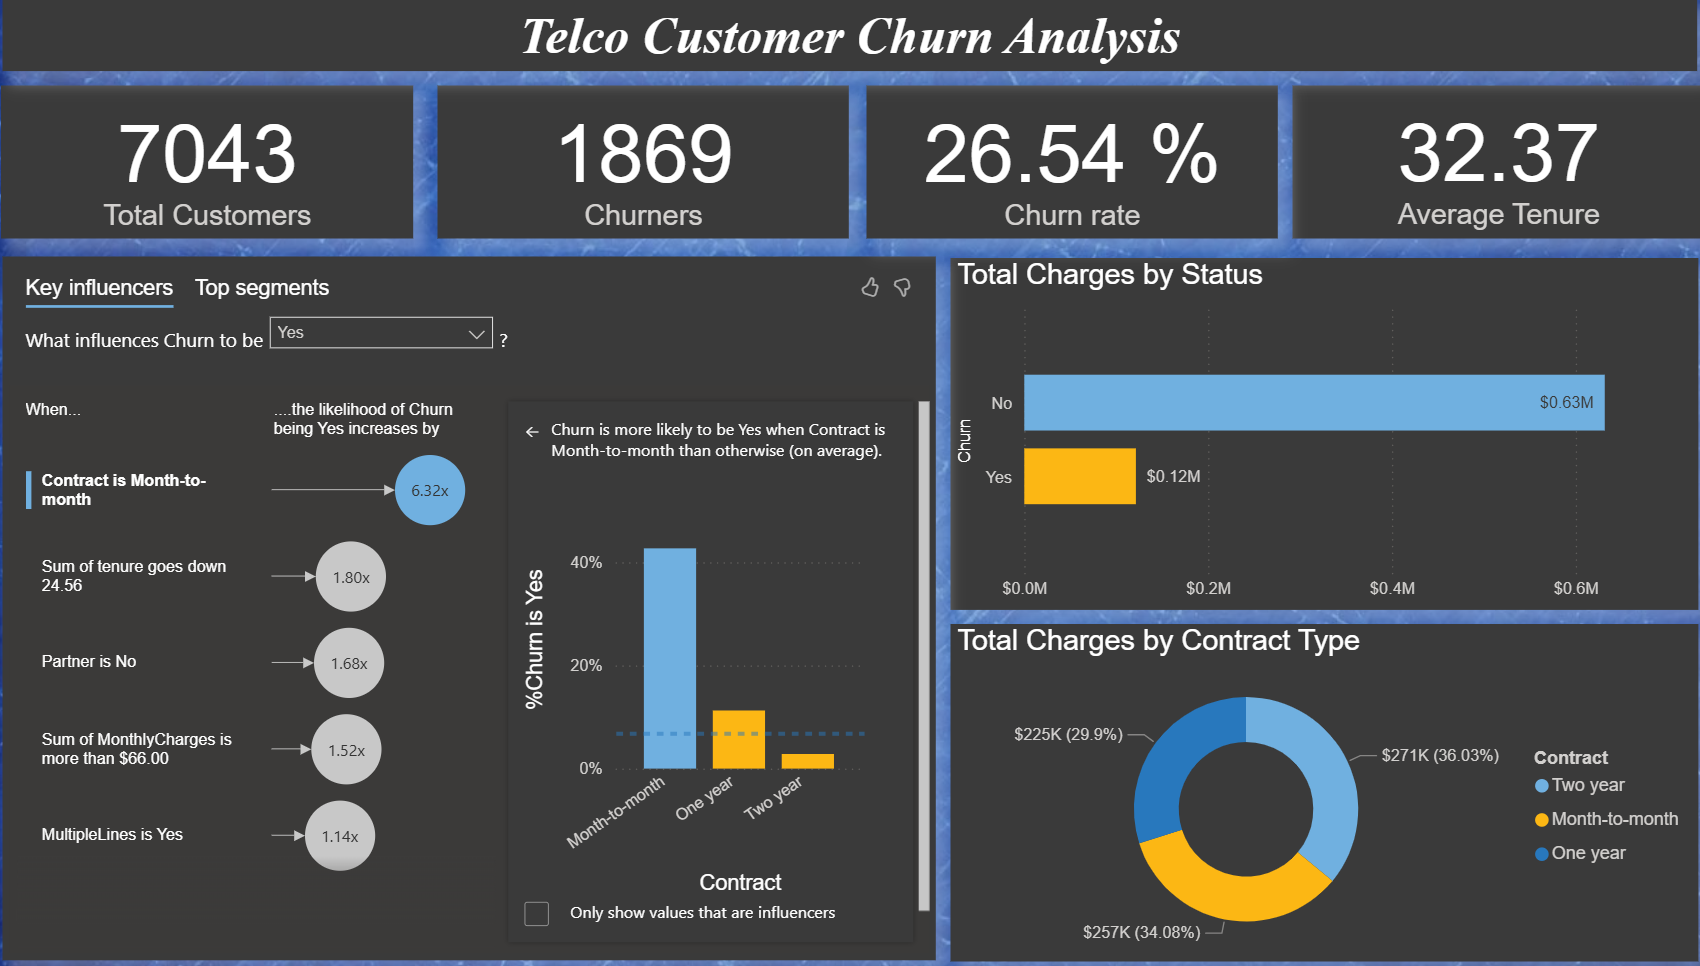

Layout of this report page (visuals, bound fields, positions):
{"tool":"powerbi","page":{"name":"Churn monitoring","canvas":[1280,720],"ordinal":0},"visuals":[{"type":"card","title":"Contract","fields":{"Values":["WA_Fn-UseC_-Telco-Customer-Chur.Average Tenure"]},"box":[970.5,63,305,113],"z":0},{"type":"card","fields":{"Values":["WA_Fn-UseC_-Telco-Customer-Chur.Total Customers"]},"box":[13.6,63.6,305,113.6],"z":1000},{"type":"card","fields":{"Values":["WA_Fn-UseC_-Telco-Customer-Chur.Churners"]},"box":[336.2,63.6,304.4,113.6],"z":2000},{"type":"barChart","title":"Total Charges by Status","fields":{"Category":["WA_Fn-UseC_-Telco-Customer-Chur.Churn"],"Y":["Sum(WA_Fn-UseC_-Telco-Customer-Chur.TotalCharges)"]},"box":[716.2,190.8,554.2,260.4],"z":3000},{"type":"keyDriversVisual","fields":{"Target":["WA_Fn-UseC_-Telco-Customer-Chur.Churn"],"ExplainBy":["Sum(WA_Fn-UseC_-Telco-Customer-Chur.tenure)","Sum(WA_Fn-UseC_-Telco-Customer-Chur.MonthlyCharges)","WA_Fn-UseC_-Telco-Customer-Chur.Partner","WA_Fn-UseC_-Telco-Customer-Chur.Contract","WA_Fn-UseC_-Telco-Customer-Chur.MultipleLines"]},"box":[14.3,190.4,691.4,521],"z":4000},{"type":"donutChart","title":"Total Charges by Contract Type","fields":{"Y":["WA_Fn-UseC_-Telco-Customer-Chur.Total Charges"],"Category":["WA_Fn-UseC_-Telco-Customer-Chur.Contract"]},"box":[716.2,461.8,554.2,249.8],"z":5000},{"type":"card","fields":{"Values":["WA_Fn-UseC_-Telco-Customer-Chur.Churn rate"]},"box":[654.1,63.6,304.4,113.6],"z":6000},{"type":"textbox","box":[14.3,0,1255.3,53],"z":7000}]}

Visuals, with their boxes in screenshot pixels (x1, y1, x2, y2), scaled from the page's 1280x720 canvas onto the 1700x966 screenshot:
"Contract" card: region(1289, 85, 1694, 236)
card - WA_Fn-UseC_-Telco-Customer-Chur.Total Customers: region(18, 85, 423, 238)
card - WA_Fn-UseC_-Telco-Customer-Chur.Churners: region(447, 85, 851, 238)
"Total Charges by Status" barChart: region(951, 256, 1687, 605)
keyDriversVisual - WA_Fn-UseC_-Telco-Customer-Chur.Churn x Sum(WA_Fn-UseC_-Telco-Customer-Chur.tenure): region(19, 255, 937, 954)
"Total Charges by Contract Type" donutChart: region(951, 620, 1687, 955)
card - WA_Fn-UseC_-Telco-Customer-Chur.Churn rate: region(869, 85, 1273, 238)
textbox: region(19, 0, 1686, 71)
